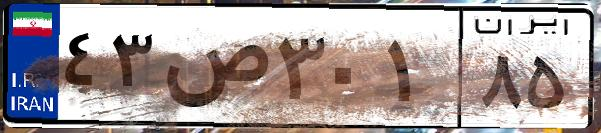0: (330, 28, 385, 110)
1: (385, 28, 445, 110)
3: (270, 28, 330, 110), (110, 28, 158, 98)
4: (57, 26, 110, 100)
5: (525, 38, 570, 115)
8: (475, 38, 525, 113)
ص: (158, 20, 270, 120)
